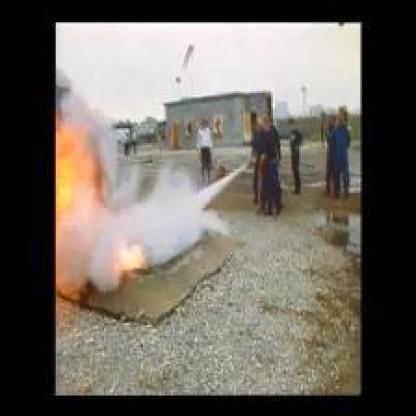fire: (54, 117, 97, 211), (109, 234, 149, 271)
